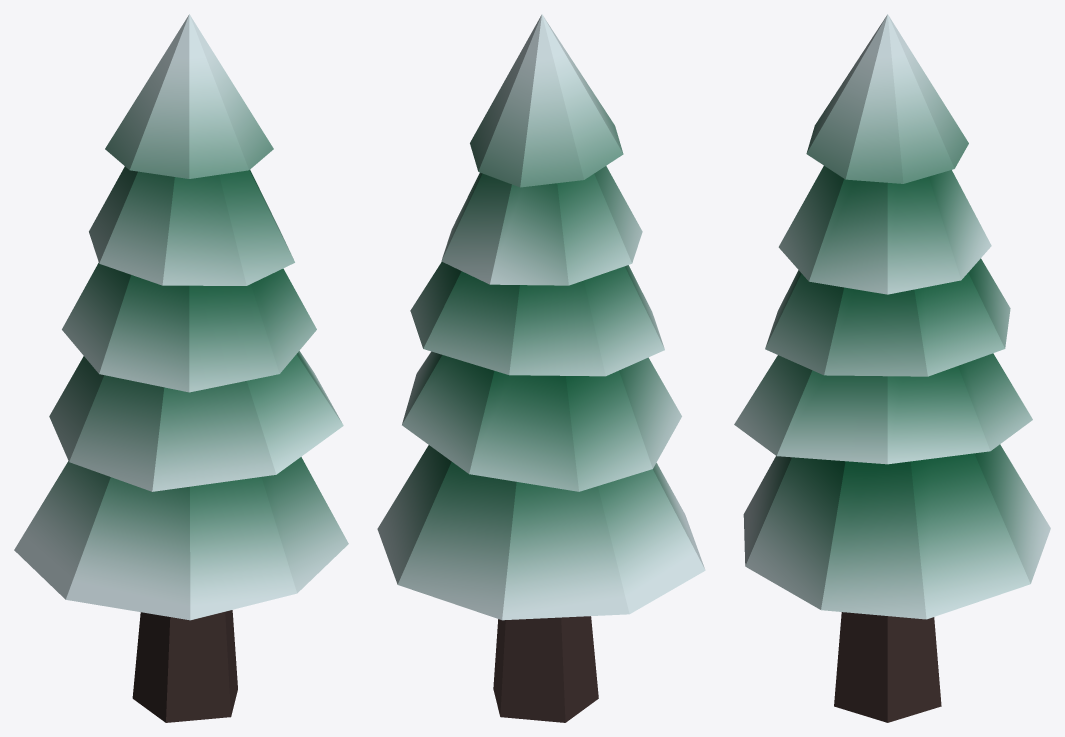
Rendered from SM_IP_PineTree_01.fbx.
The picture shows the model from 3 angles, left to right: view 1: azimuth 30°, elevation 25°; view 2: azimuth 150°, elevation 25°; view 3: azimuth 270°, elevation 25°; orthographic projection.
Parts seen in each view (by area): view 1: Pine_Tree_1; view 2: Pine_Tree_1; view 3: Pine_Tree_1.
Boxes of the visible parts, x1,y1,x2,y2 form: Pine_Tree_1: (14,14,348,722); Pine_Tree_1: (377,14,705,722); Pine_Tree_1: (734,14,1050,722).
Bounding box in the file's own units: 0.517 × 1.18 × 0.4925.
